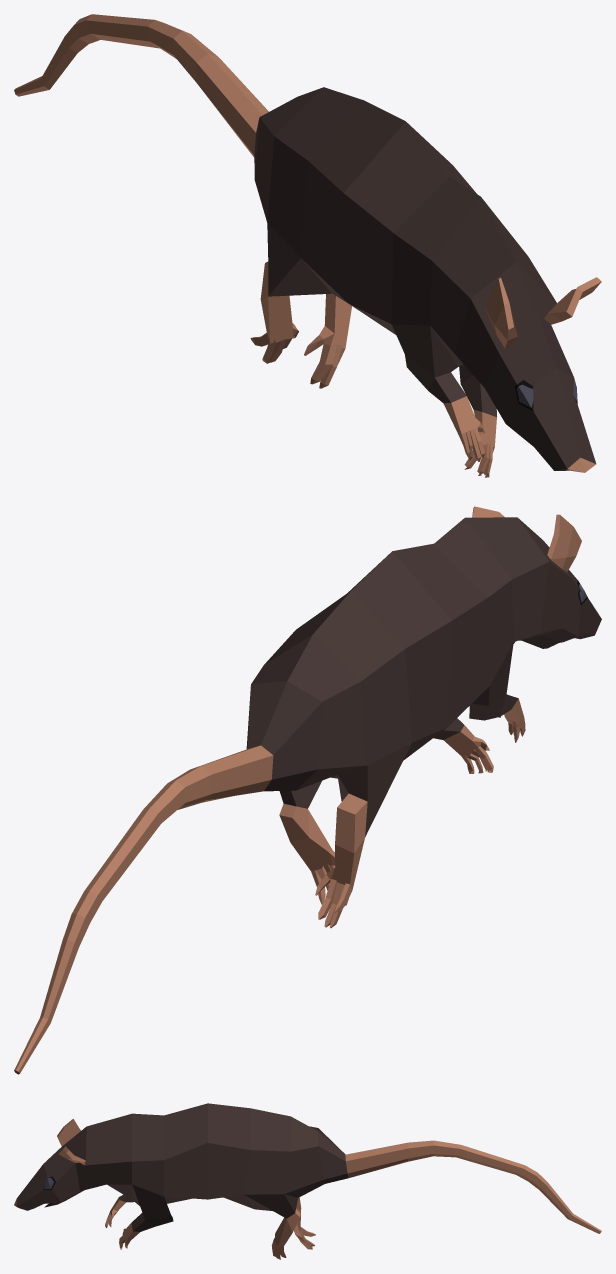
The model's file is rat.fbx.
3 renders of one model, top to bottom at view 1: azimuth 30°, elevation 25°; view 2: azimuth 150°, elevation 25°; view 3: azimuth 270°, elevation 25°, orthographic. The views are drawn at different scales.
Visible parts, largest first — view 1: rat; view 2: rat; view 3: rat.
Boxes of the visible parts, <box> form: rat: <box>14,14,601,477</box>; rat: <box>14,506,601,1074</box>; rat: <box>14,1103,601,1259</box>.
Bounding box in the file's own units: 111 × 256 × 856.
